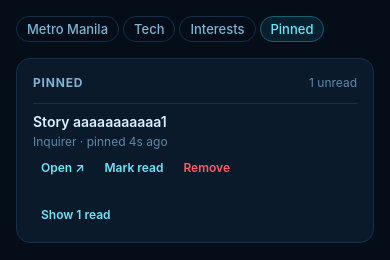
it: Pinned (19.4) › marks one read and draws it from the re-read
Expected: the element with test id "news-pinned-1" is shown, [33, 103, 357, 187]
Click the button with test id "news-pinned-1-read" at (134, 168), box [96, 156, 171, 179]
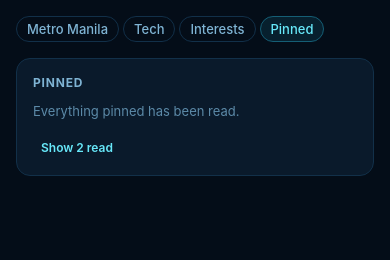
Expected: the element with test id "news-pinned-1" is gone
Expected: the text with test id "news-pinned-empty" reads "Everything pinned has been read.", [33, 103, 240, 119]
